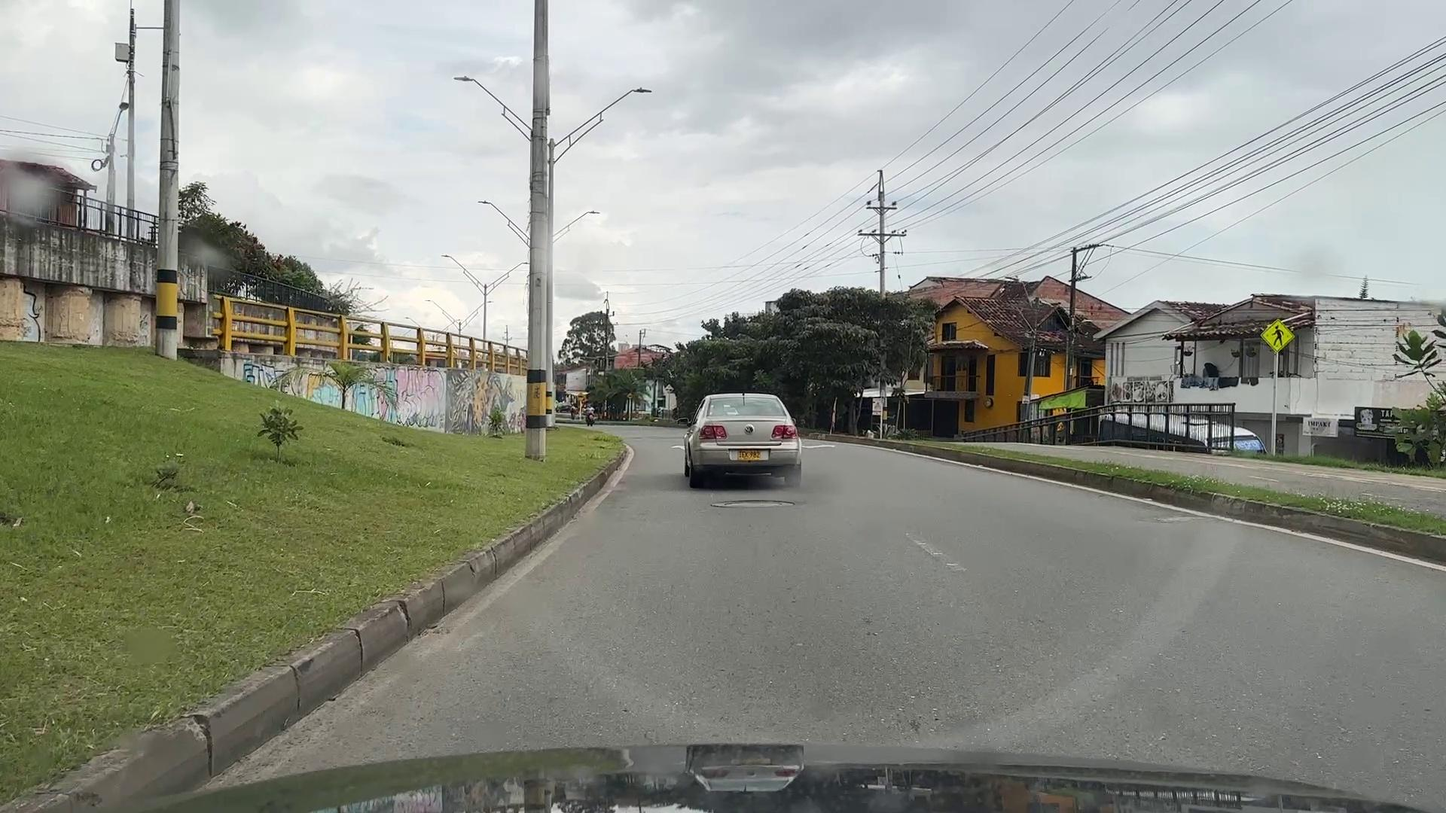registro: (711, 500, 795, 508)
